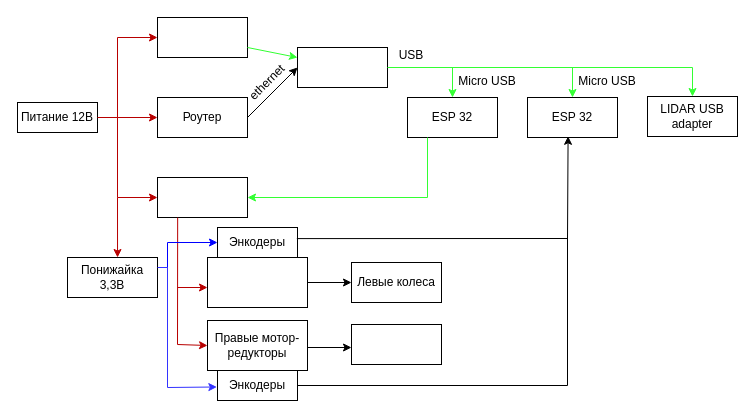
Image size: 755x418. Some labels were removed from this diagram. The shapes that lost their labels are listed below. From the top down, each one's centre as x and y in pixels, then its label:
(202,37): Понижайка 5В
(342,67): Raspberry Pi 5
(202,197): Драйвер двигателей
(257,282): Левые мотор-редукторы
(396,344): Правые колеса
